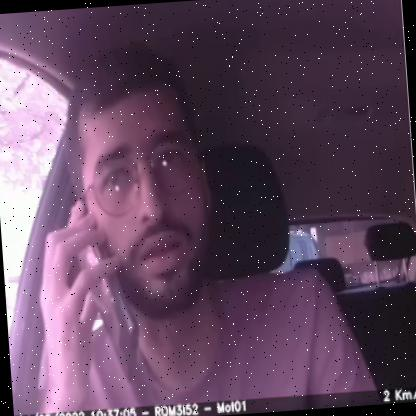phone: (62, 199, 141, 393)
